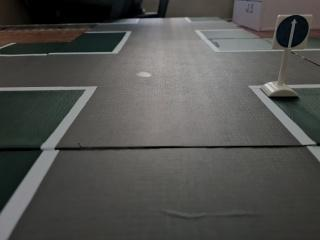straight: (276, 14, 311, 51)
